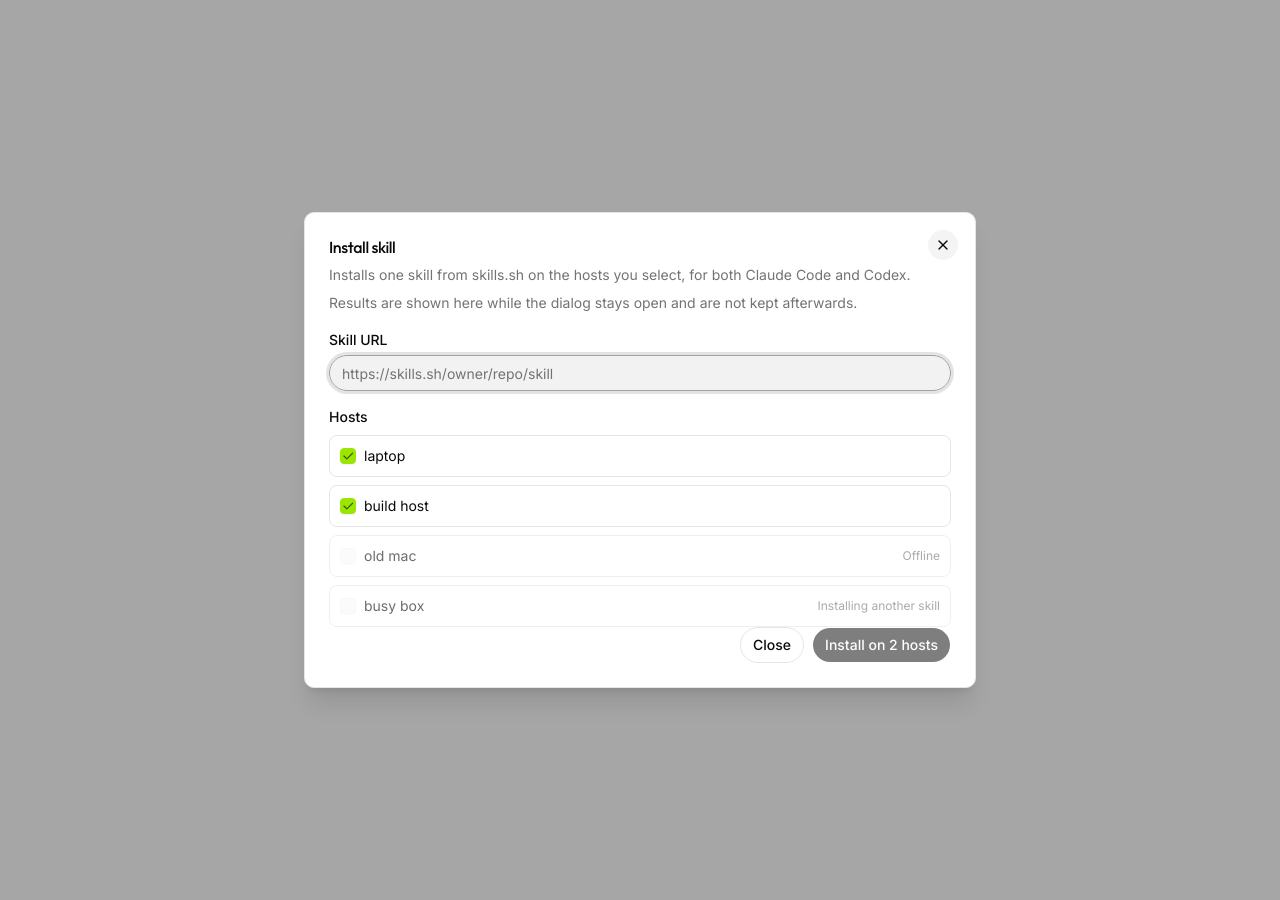
Scenario: InstallSkillDialog › re-renders the gate the server enforced when a submission is refused
The image size is (1280, 900).
Type "https://skills.sh/anthropics/skills/pdf" into the field labelled "Skill URL" at [640, 373], box [329,355,951,391]
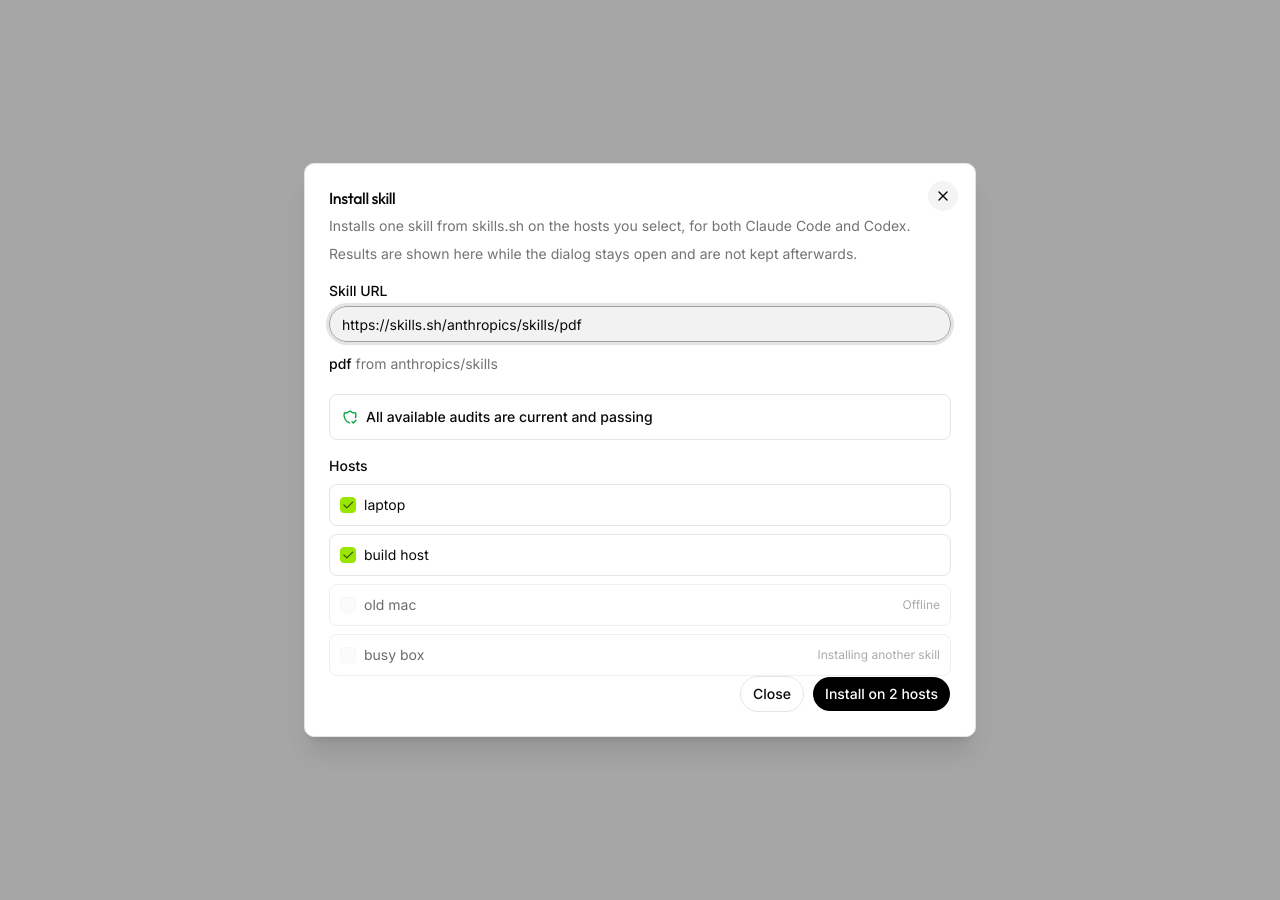
Now the button "Install on 2 hosts" is enabled
Click the button "Install on 2 hosts" at [882, 694], box [812,676,951,712]
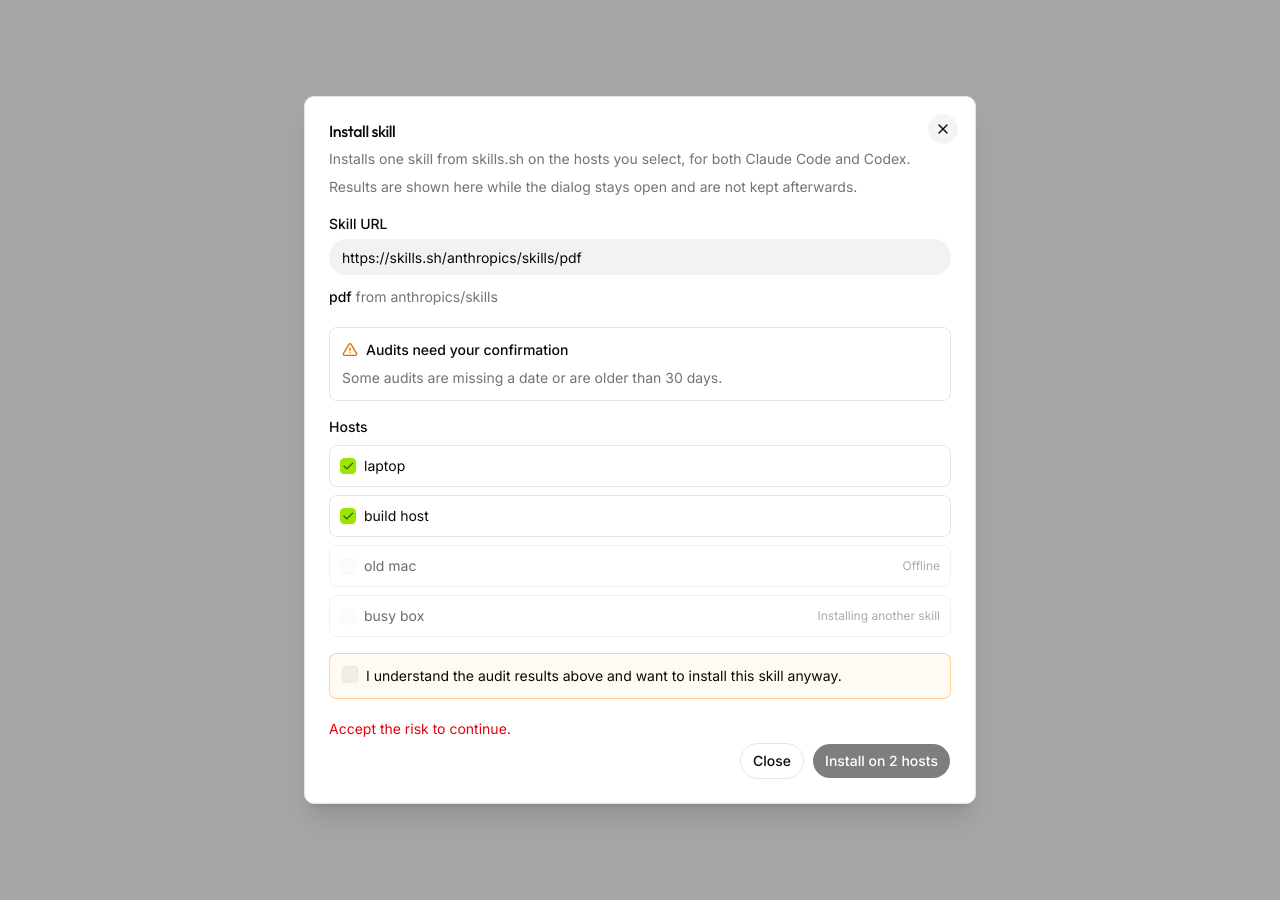
Now the text "Accept the risk to continue." is shown, box [329,720,511,737]
Now the checkbox named "Accept the risk and install anyway" is not checked, box [342,666,358,682]
Now the button "Install on 2 hosts" is disabled, box [812,743,951,779]
